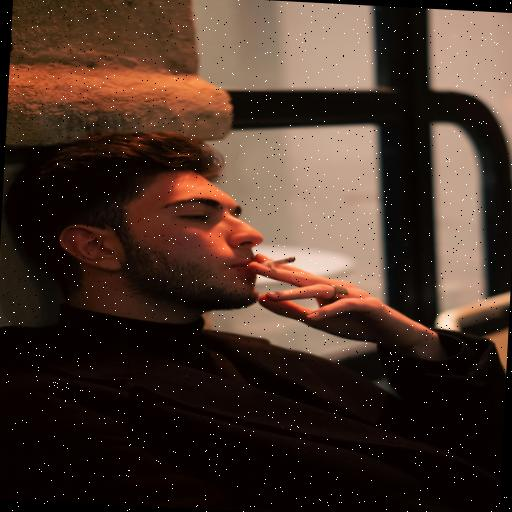terdeteksi merokok: (172, 172, 314, 311)
